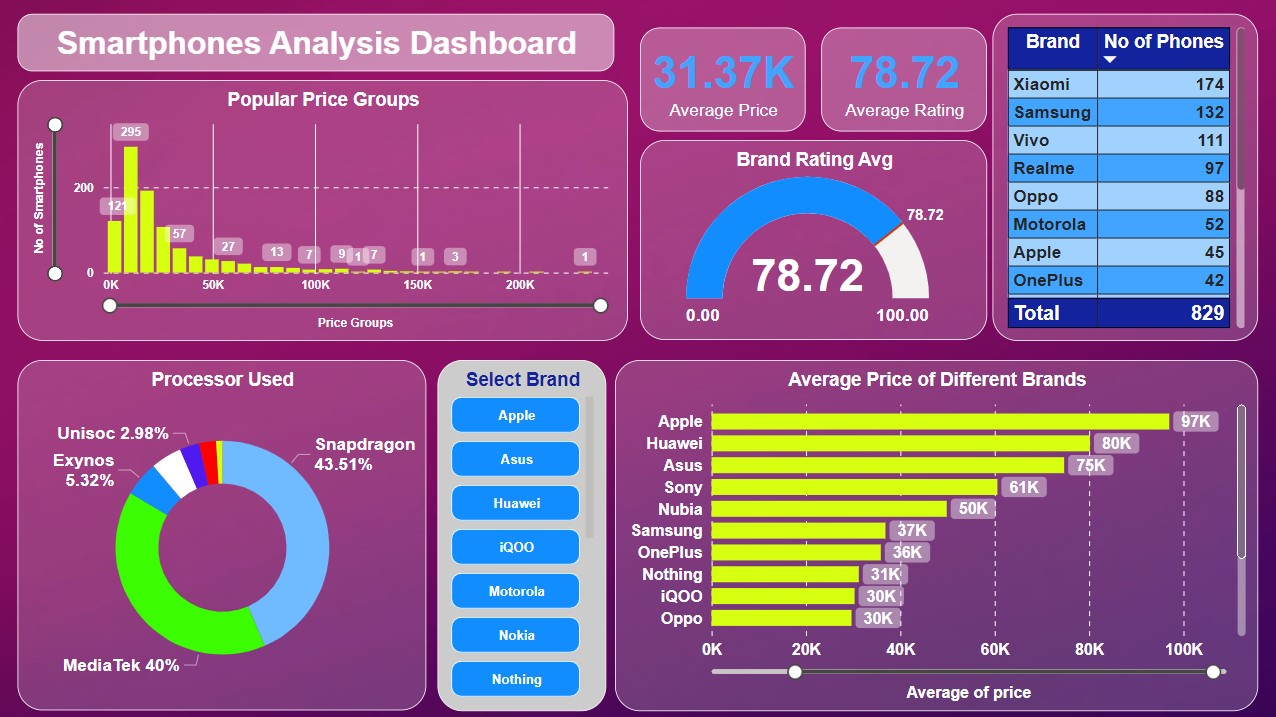

The dashboard page shown, as its layout file describes it:
{"tool":"powerbi","page":{"name":"Page 1","canvas":[1280,720],"ordinal":0},"visuals":[{"type":"gauge","title":"Brand Rating Avg","fields":{"Y":["Avg(sp_eda_data_1.rating)"]},"box":[639.4,139.9,347.5,200.3],"z":0},{"type":"advancedSlicerVisual","title":"Select Brand","fields":{"Values":["sp_eda_data_1.brand_name"]},"box":[431.9,359.5,168.9,351.1],"z":1000},{"type":"columnChart","title":"Popular Price Groups","fields":{"Y":["CountNonNull(sp_eda_data_1.model)"],"Category":["sp_eda_data_1.price (bins)"]},"box":[18.1,79.6,610.5,260.6],"z":2000},{"type":"donutChart","title":"Processor Used","fields":{"Y":["CountNonNull(sp_eda_data_1.Processor_name)"],"Category":["sp_eda_data_1.Processor_name"]},"box":[18.1,359.5,394.5,351.1],"z":3000},{"type":"card","title":"Avg Price","fields":{"Values":["Avg(sp_eda_data_1.price)"]},"box":[639.4,27.7,165.3,103.8],"z":4000},{"type":"card","title":"Avg Rating","fields":{"Values":["Avg(sp_eda_data_1.rating)"]},"box":[821.6,27.7,165.3,103.8],"z":5000},{"type":"textbox","box":[18.1,13.3,597.2,57.9],"z":6000},{"type":"clusteredBarChart","title":"Average Price of Different Brands","fields":{"Category":["sp_eda_data_1.brand_name"],"Y":["Avg(sp_eda_data_1.price)"]},"box":[615.3,359.5,643,351.1],"z":7000},{"type":"tableEx","fields":{"Values":["sp_eda_data_1.brand_name","sp_eda_data_1.5g_Available"]},"box":[992.9,13.3,265.4,326.9],"z":9000}]}

Visuals, with their boxes in screenshot pixels (x1, y1, x2, y2), scaled from the page's 1280x720 canvas onto the 1276x717 screenshot:
"Brand Rating Avg" gauge: 637 139 984 339
"Select Brand" advancedSlicerVisual: 431 358 599 708
"Popular Price Groups" columnChart: 18 79 627 339
"Processor Used" donutChart: 18 358 411 708
"Avg Price" card: 637 28 802 131
"Avg Rating" card: 819 28 984 131
textbox: 18 13 613 71
"Average Price of Different Brands" clusteredBarChart: 613 358 1254 708
tableEx - sp_eda_data_1.brand_name x sp_eda_data_1.5g_Available: 990 13 1254 339
